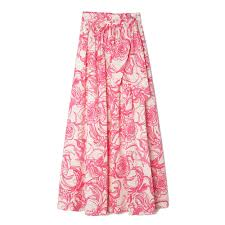C_skirt: (48, 7, 175, 217)
